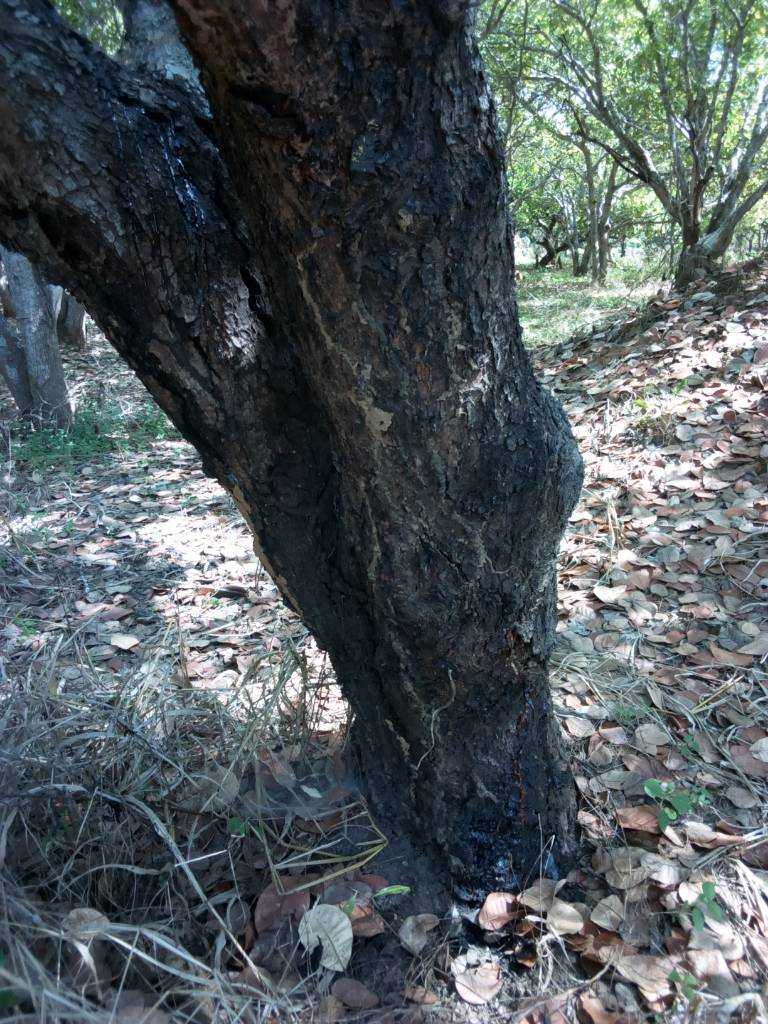Gommose: (302, 30, 568, 866), (24, 14, 255, 275)
